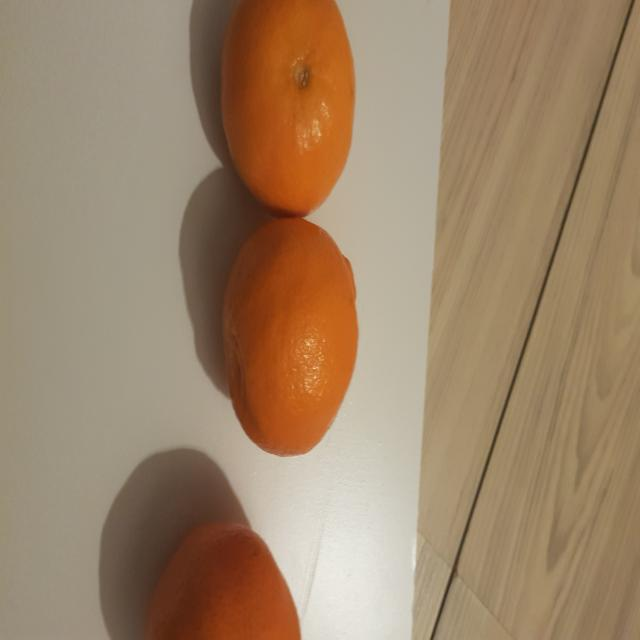Orange: (222, 219, 358, 457), (220, 0, 355, 218), (139, 520, 303, 640)
